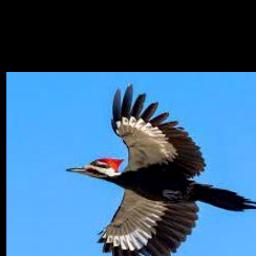Woodpecker: (65, 82, 256, 256)
